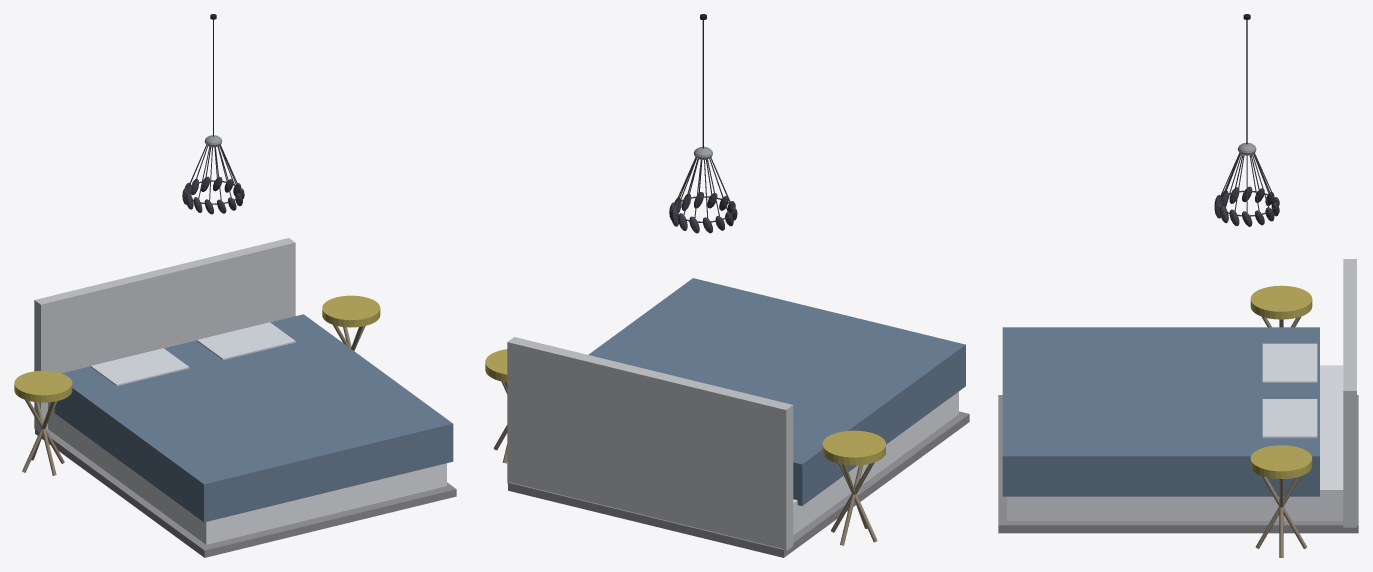
3 views of the same model, side by side, from view 1: azimuth 30°, elevation 25°; view 2: azimuth 150°, elevation 25°; view 3: azimuth 270°, elevation 25° (orthographic). The views are drawn at different scales.
Parts seen in each view (by area): view 1: Duvet, Headboard, Mattress, BedFrame, Pillow_0, Pillow_1, SideTableTop_0, SideTableTop_1; view 2: Headboard, Duvet, BedFrame, Mattress, SideTableTop_0, SideTableTop_1; view 3: Duvet, Mattress, BedFrame, Headboard, Pillow_0, Pillow_1, SideTableTop_1, SideTableTop_0.
Boxes of the visible parts, x1=… form: Duvet: x1=54, y1=314, x2=453, y2=522; Headboard: x1=34, y1=238, x2=295, y2=432; Mattress: x1=48, y1=402, x2=446, y2=544; BedFrame: x1=35, y1=429, x2=456, y2=557; Pillow_0: x1=90, y1=348, x2=189, y2=385; Pillow_1: x1=197, y1=322, x2=295, y2=360; SideTableTop_0: x1=14, y1=370, x2=72, y2=402; SideTableTop_1: x1=322, y1=295, x2=380, y2=327; Headboard: x1=507, y1=337, x2=793, y2=550; Duvet: x1=588, y1=278, x2=965, y2=505; BedFrame: x1=508, y1=411, x2=969, y2=557; Mattress: x1=793, y1=391, x2=958, y2=534; SideTableTop_0: x1=822, y1=430, x2=885, y2=465; SideTableTop_1: x1=485, y1=349, x2=507, y2=382; Duvet: x1=1002, y1=327, x2=1319, y2=496; Mattress: x1=1007, y1=365, x2=1343, y2=520; BedFrame: x1=998, y1=395, x2=1358, y2=533; Headboard: x1=1343, y1=259, x2=1356, y2=527; Pillow_0: x1=1262, y1=343, x2=1317, y2=382; Pillow_1: x1=1262, y1=399, x2=1317, y2=438; SideTableTop_1: x1=1250, y1=445, x2=1312, y2=478; SideTableTop_0: x1=1250, y1=285, x2=1312, y2=319.
Bounding box in the file's own units: 2.56 × 2.92 × 2.1.
